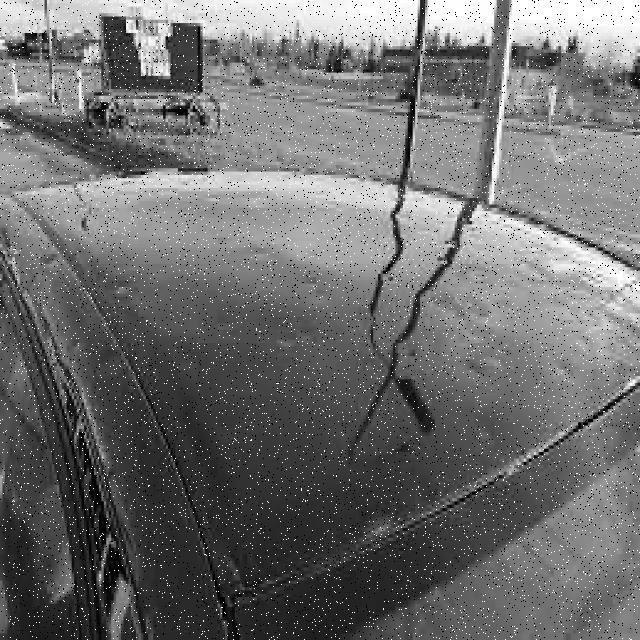roof-dent: (256, 148, 557, 540), (13, 172, 336, 498)
